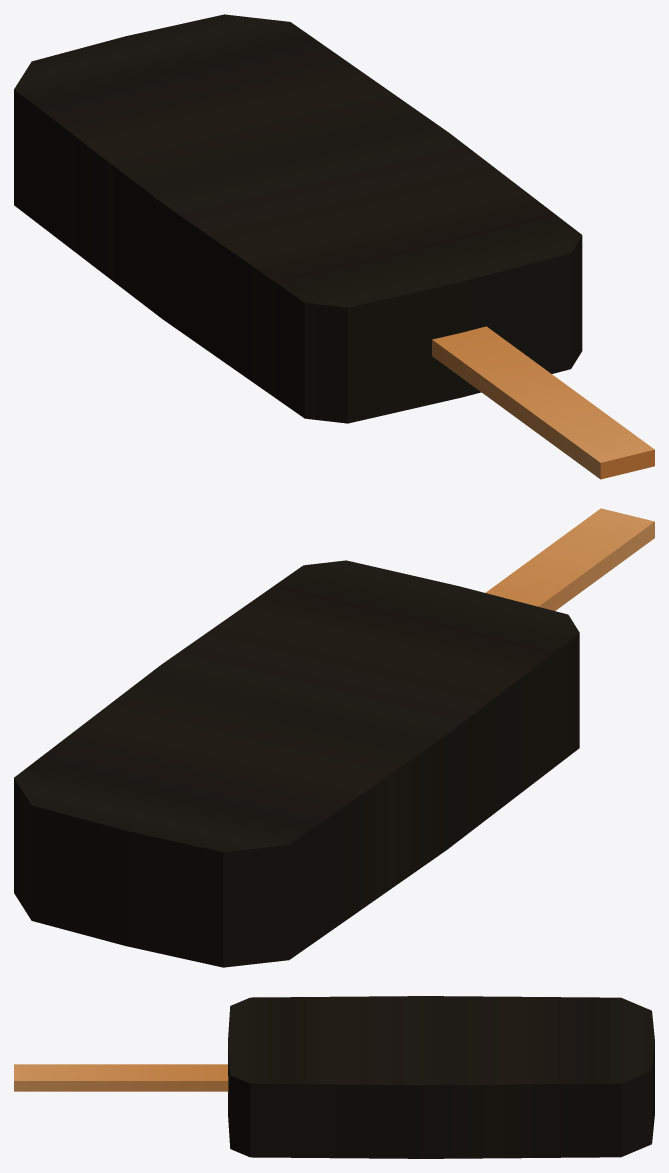
The model's file is IceCream_1.fbx.
3 renders of one model, top to bottom at view 1: azimuth 30°, elevation 25°; view 2: azimuth 150°, elevation 25°; view 3: azimuth 270°, elevation 25°, orthographic. The views are drawn at different scales.
Parts seen in each view (by area): view 1: IceCream_1; view 2: IceCream_1; view 3: IceCream_1.
Part boxes in pixels (<box>): IceCream_1: <box>14,14,654,479</box>; IceCream_1: <box>14,508,654,967</box>; IceCream_1: <box>14,996,654,1158</box>.
Bounding box in the file's own units: 65.29 × 25.16 × 198.
